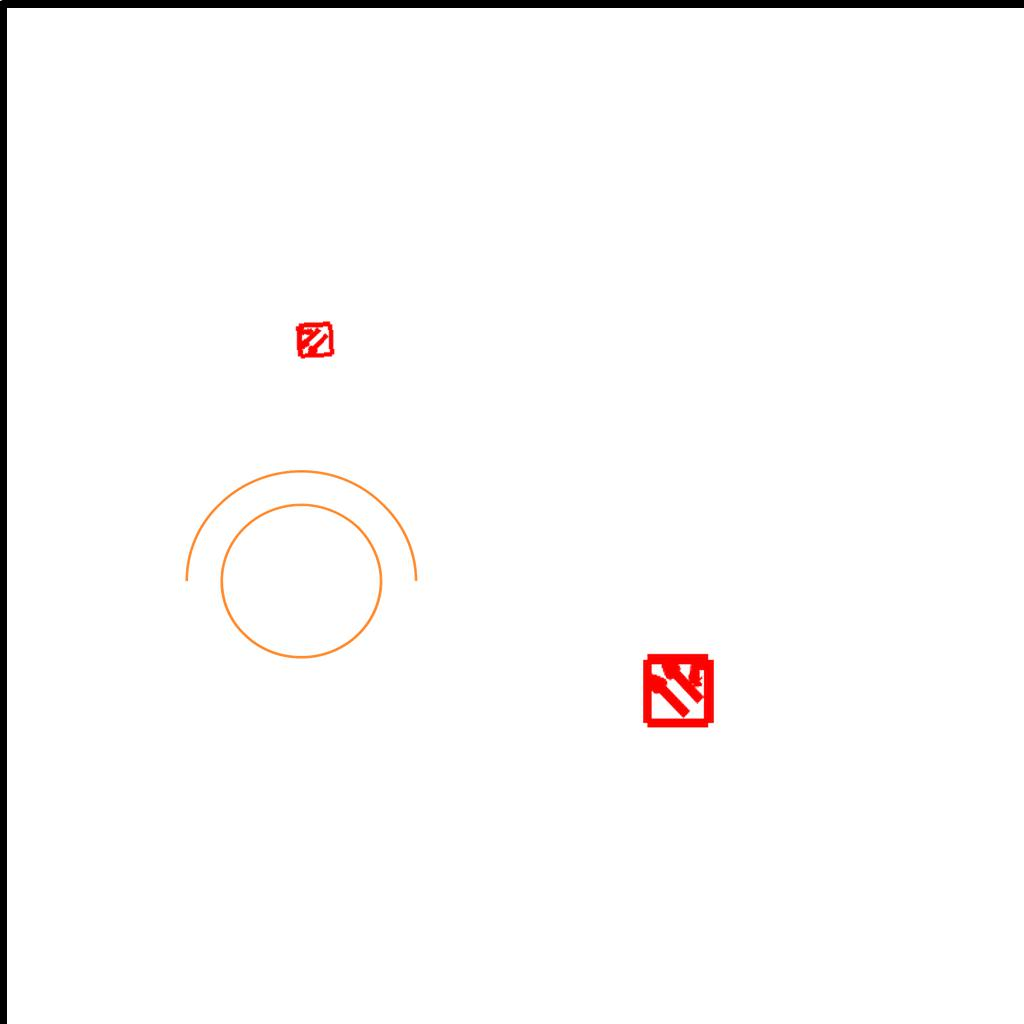OT_Multisensormelder_(Kombination_RMO_WMD): (622, 632, 735, 745), (284, 310, 344, 370)
Scheinwerfer_fuer_Alarmbeleuchtung: (163, 459, 427, 684)
